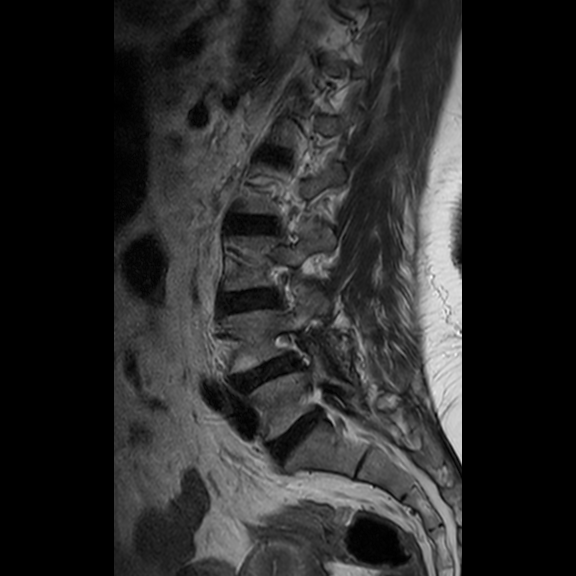LFS1: (266, 323, 320, 374)
